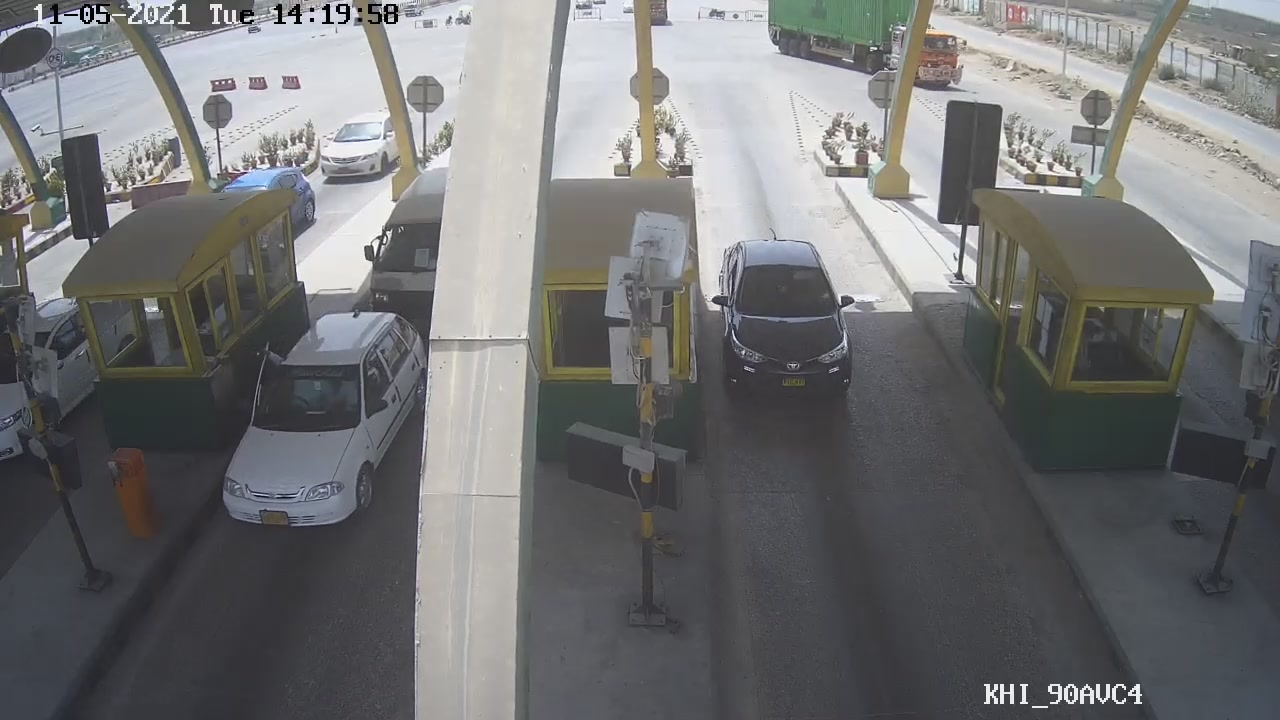F1: (715, 226, 862, 409)
